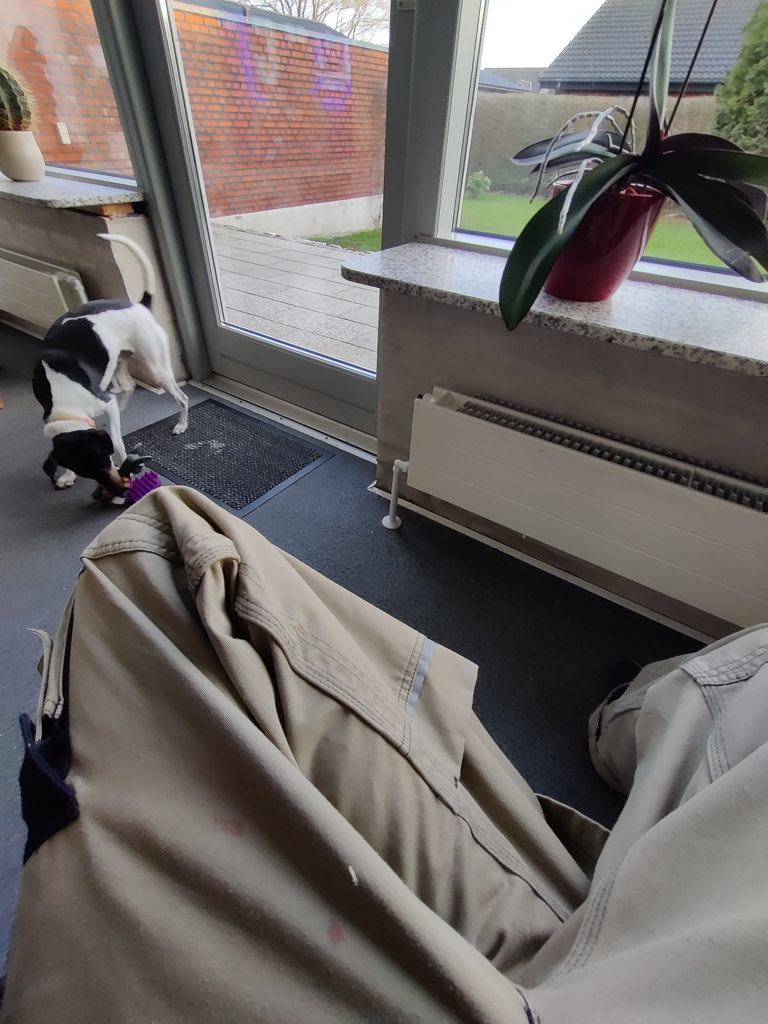Dog: (18, 218, 214, 517)
Humanoid: (0, 477, 768, 1024), (85, 442, 161, 509)
